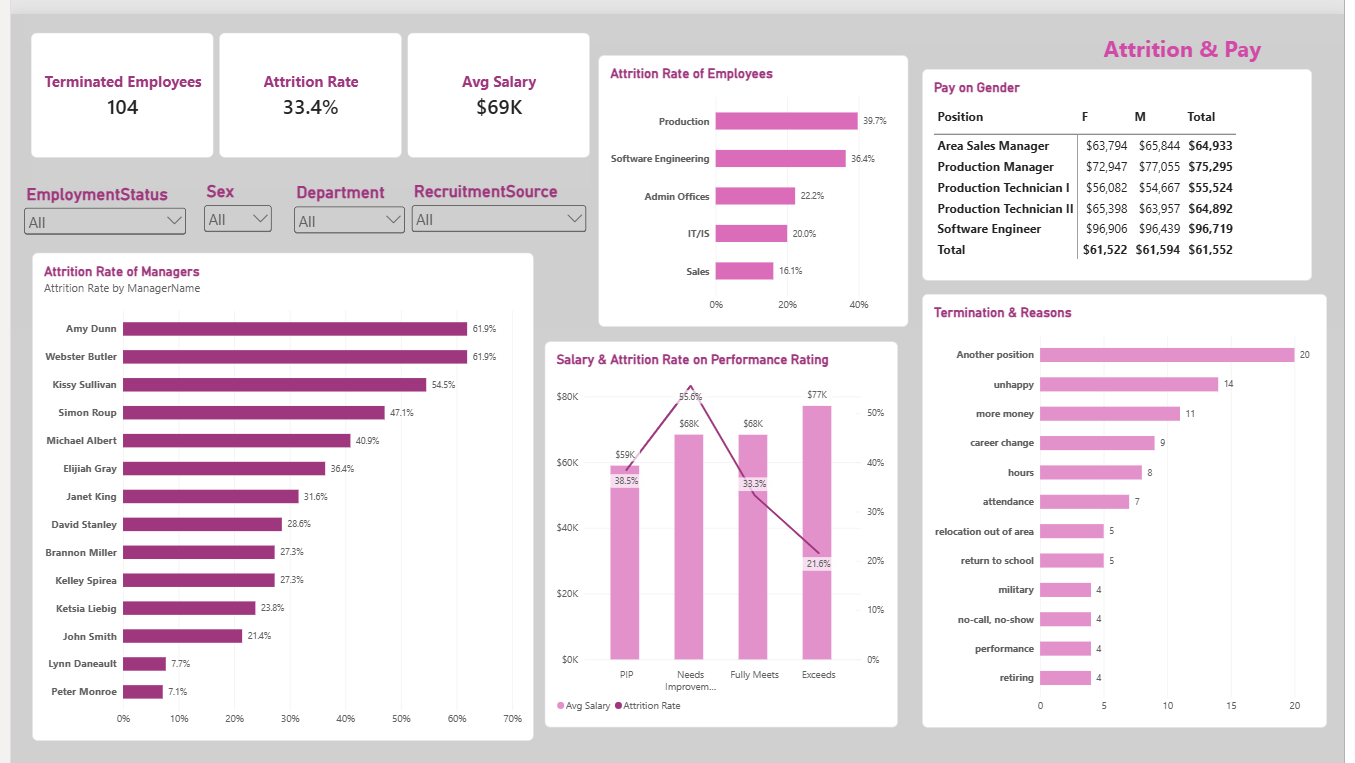

Layout of this report page (visuals, bound fields, positions):
{"tool":"powerbi","page":{"name":"Attrition and Pay","canvas":[1920,1080],"ordinal":3},"visuals":[{"type":"textbox","box":[1575,26.2,259.9,68],"z":0},{"type":"slicer","fields":{"Values":["HR.Department"]},"box":[404.1,243.7,168.9,102.6],"z":1000},{"type":"slicer","fields":{"Values":["HR.EmploymentStatus"]},"box":[14,244.2,242.4,102.9],"z":2000},{"type":"slicer","fields":{"Values":["HR.Sex"]},"box":[273.7,241.6,106.9,104.8],"z":3000},{"type":"slicer","fields":{"Values":["HR.RecruitmentSource"]},"box":[573,241.6,260.8,102.6],"z":4000},{"type":"cardVisual","fields":{"Data":["HR.Terminated Employees","HR.Attrition Rate","HR.Avg Salary"]},"box":[28.8,27,805.1,180.1],"z":5000},{"type":"clusteredBarChart","title":"Attrition Rate of Employees","fields":{"Category":["HR.Department"],"Y":["HR.Attrition Rate"]},"box":[846.7,59.9,446.7,390.8],"z":5001},{"type":"clusteredBarChart","title":"Termination & Reasons","fields":{"Category":["HR.TermReason"],"Y":["HR.Terminated Employees"]},"box":[1313,403.5,583.6,625],"z":5002},{"type":"clusteredBarChart","title":"Attrition Rate of Managers","fields":{"Category":["HR.ManagerName"],"Y":["HR.Attrition Rate"]},"box":[29.9,344.2,722.7,703.4],"z":5003},{"type":"lineClusteredColumnComboChart","title":"Salary & Attrition Rate on Performance Rating","fields":{"Category":["HR.PerformanceScore"],"Y":["HR.Avg Salary"],"Y2":["HR.Attrition Rate"]},"box":[769.7,472.5,508.9,555.9],"z":5004},{"type":"pivotTable","title":"Pay on Gender ","fields":{"Columns":["HR.Sex"],"Rows":["HR.Position"],"Values":["HR.Avg Salary"]},"box":[1312.7,79.3,561.4,304.7],"z":5005}]}

Visuals, with their boxes in screenshot pixels (x1, y1, x2, y2), scaled from the page's 1920x1080 canvas onto the 1355x763 screenshot:
textbox: BBox(1112, 19, 1295, 67)
slicer - HR.Department: BBox(285, 172, 404, 245)
slicer - HR.EmploymentStatus: BBox(10, 173, 181, 245)
slicer - HR.Sex: BBox(193, 171, 269, 245)
slicer - HR.RecruitmentSource: BBox(404, 171, 588, 243)
cardVisual - HR.Terminated Employees x HR.Attrition Rate: BBox(20, 19, 589, 146)
"Attrition Rate of Employees" clusteredBarChart: BBox(598, 42, 913, 318)
"Termination & Reasons" clusteredBarChart: BBox(927, 285, 1338, 727)
"Attrition Rate of Managers" clusteredBarChart: BBox(21, 243, 531, 740)
"Salary & Attrition Rate on Performance Rating" lineClusteredColumnComboChart: BBox(543, 334, 902, 727)
"Pay on Gender " pivotTable: BBox(926, 56, 1323, 271)
